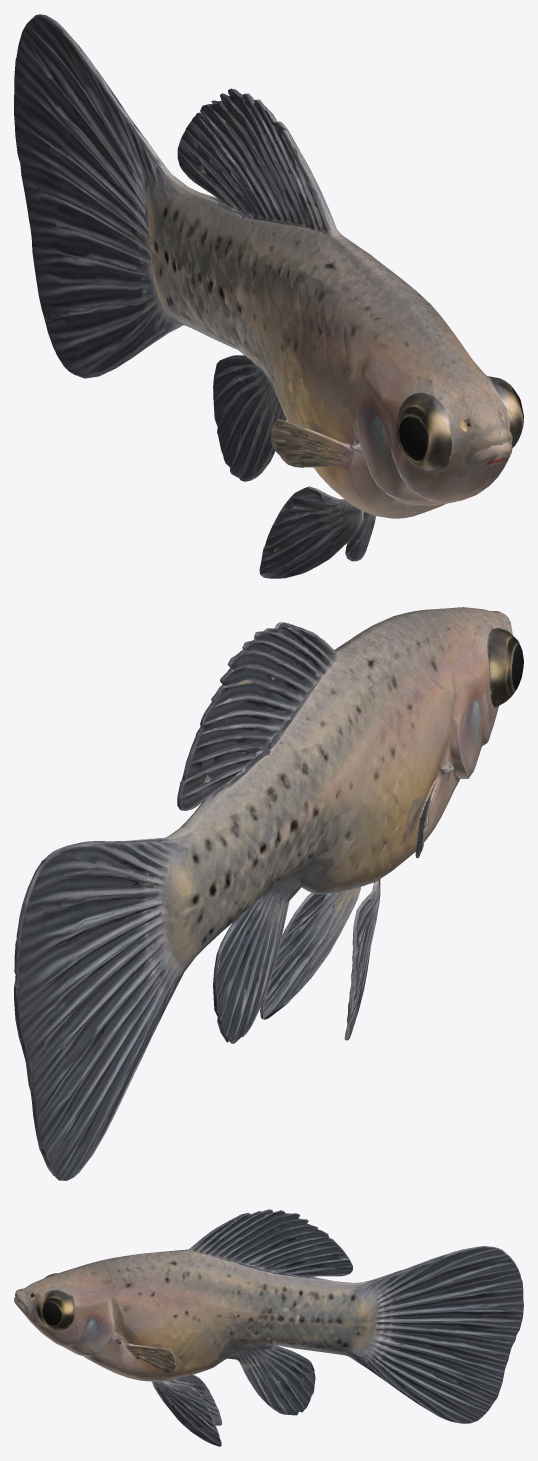
Rendered from molly_baby.glb.
3 renders of one model, top to bottom at view 1: azimuth 30°, elevation 25°; view 2: azimuth 150°, elevation 25°; view 3: azimuth 270°, elevation 25°, orthographic. The views are drawn at different scales.
Parts seen in each view (by area): view 1: molly_body, molly_fins, molly_fins_low, molly_body_low; view 2: molly_fins, molly_body, molly_fins_low, molly_body_low; view 3: molly_fins, molly_body, molly_fins_low, molly_body_low.
Part boxes in pixels (x1,y1,x2,y2): molly_body: (149, 110, 523, 548); molly_fins: (14, 14, 375, 578); molly_fins_low: (14, 16, 370, 578); molly_body_low: (155, 119, 514, 523); molly_fins: (14, 622, 438, 1180); molly_body: (170, 607, 523, 987); molly_fins_low: (15, 622, 429, 1180); molly_body_low: (163, 609, 522, 1009); molly_fins: (131, 1209, 523, 1446); molly_body: (14, 1211, 370, 1391); molly_fins_low: (134, 1212, 523, 1444); molly_body_low: (19, 1213, 370, 1381).
Bounding box in the file's own units: 0.2753 × 0.73 × 1.49.
2 materials, 2 textured.
